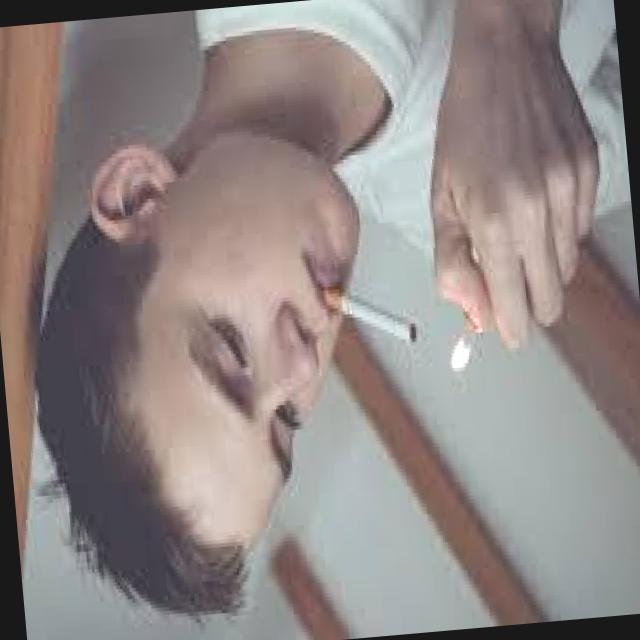cigarette: (316, 274, 432, 375)
